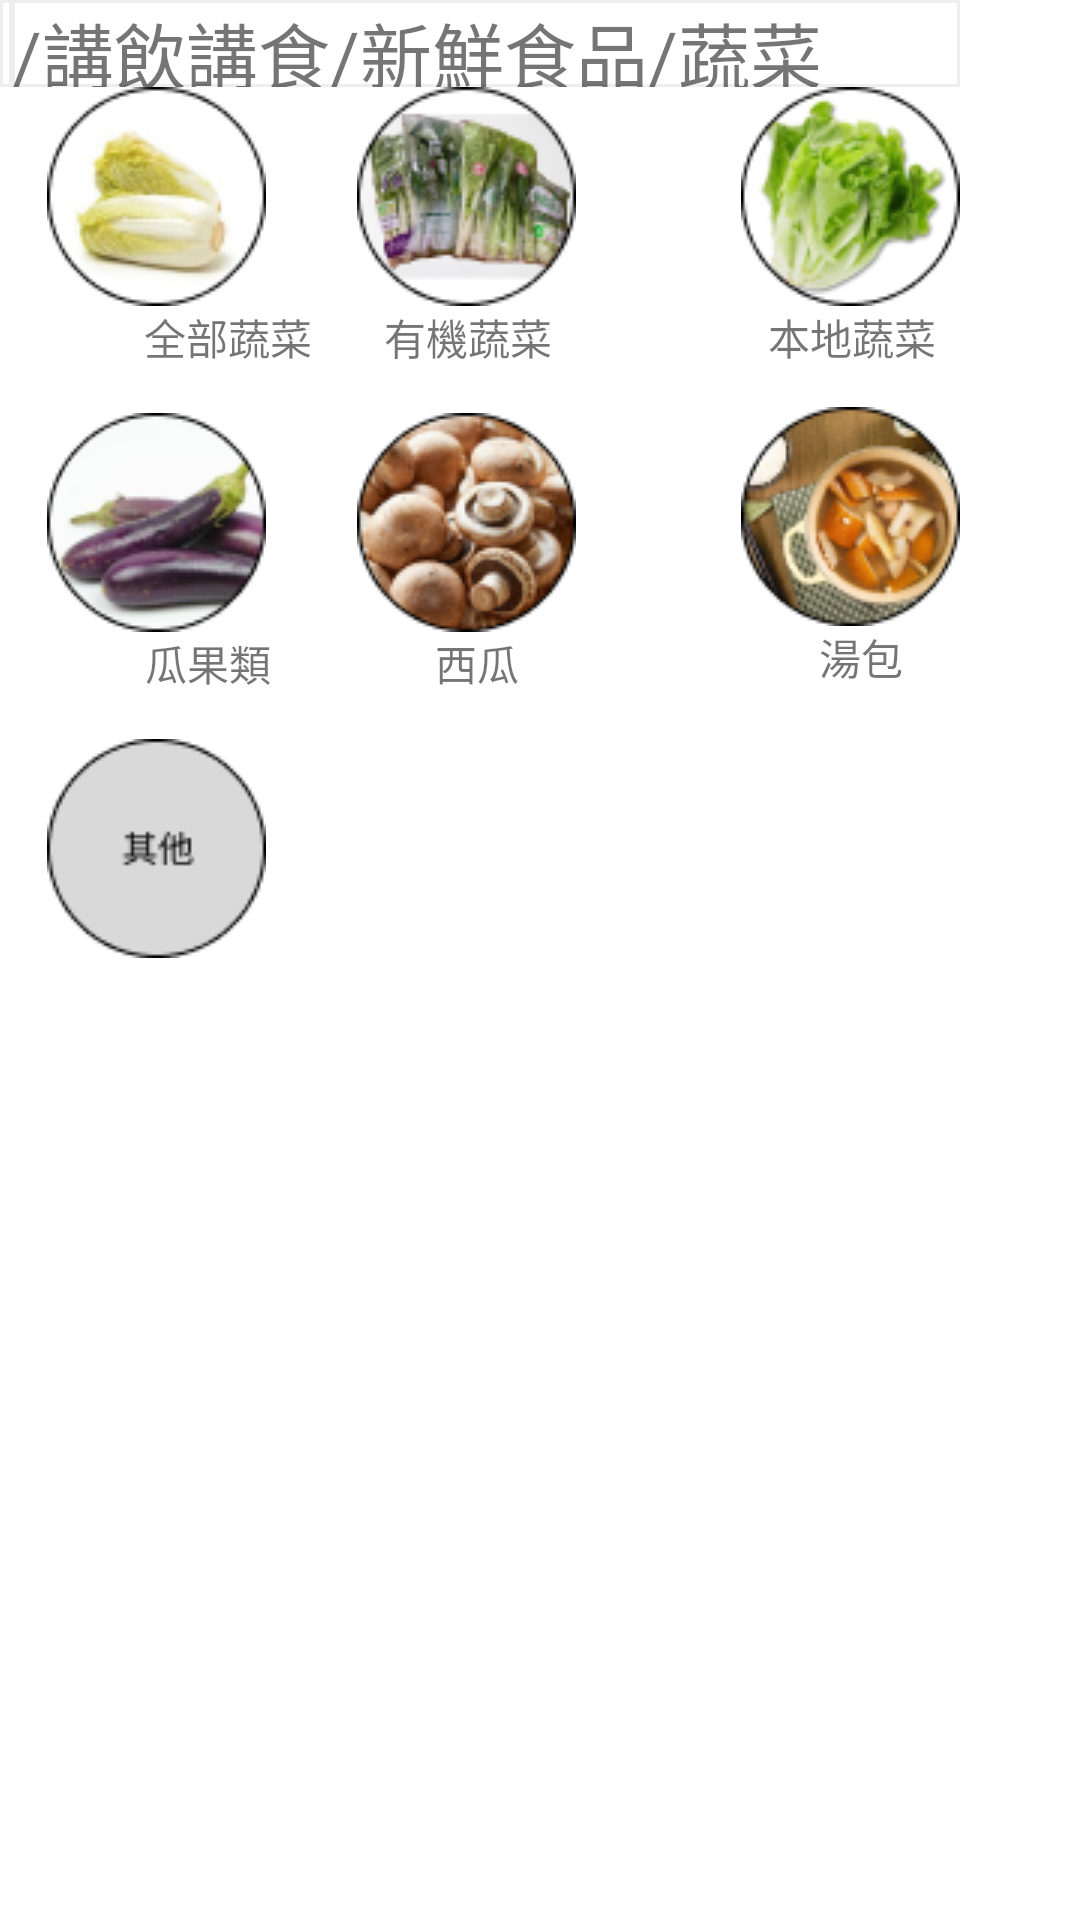

Icons on this 1080w x 1920h Android screen, each with the point to tap as (x,y):
mushroom: (466,522)
